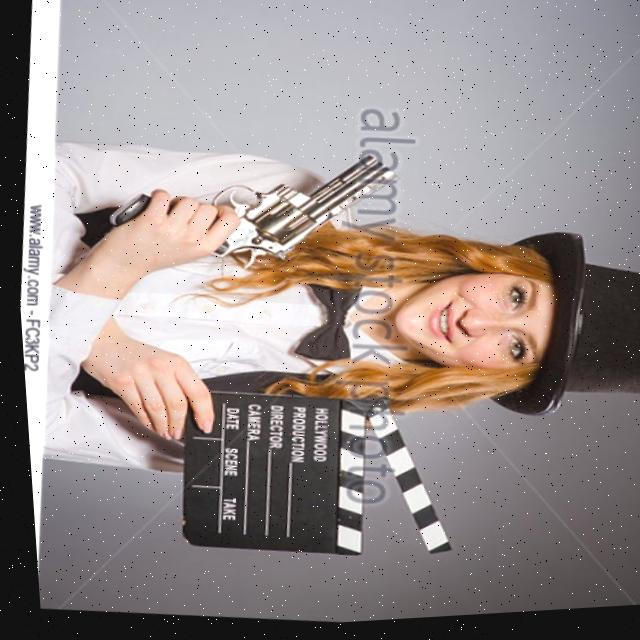pistol: (201, 142, 399, 287)
